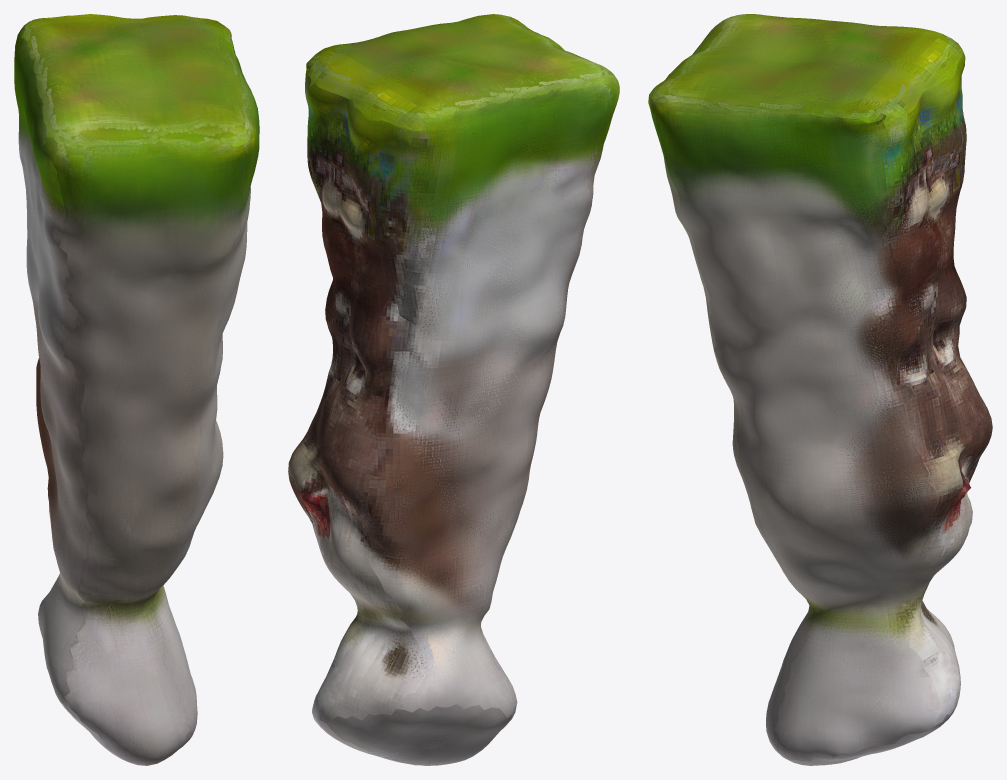
The model's file is 4_plastic_bag.glb.
3 renders of one model, left to right at view 1: azimuth 30°, elevation 25°; view 2: azimuth 150°, elevation 25°; view 3: azimuth 270°, elevation 25°, orthographic.
Visible parts, largest first — view 1: 4_plastic_bag.obj; view 2: 4_plastic_bag.obj; view 3: 4_plastic_bag.obj.
Boxes of the visible parts, bbox=[...] form: 4_plastic_bag.obj: bbox=[14, 14, 259, 765]; 4_plastic_bag.obj: bbox=[288, 14, 619, 765]; 4_plastic_bag.obj: bbox=[648, 14, 992, 765].
Size of the model in its own units: 0.261 by 0.7293 by 0.3215.
Materials: 1 (1 with a texture image).
